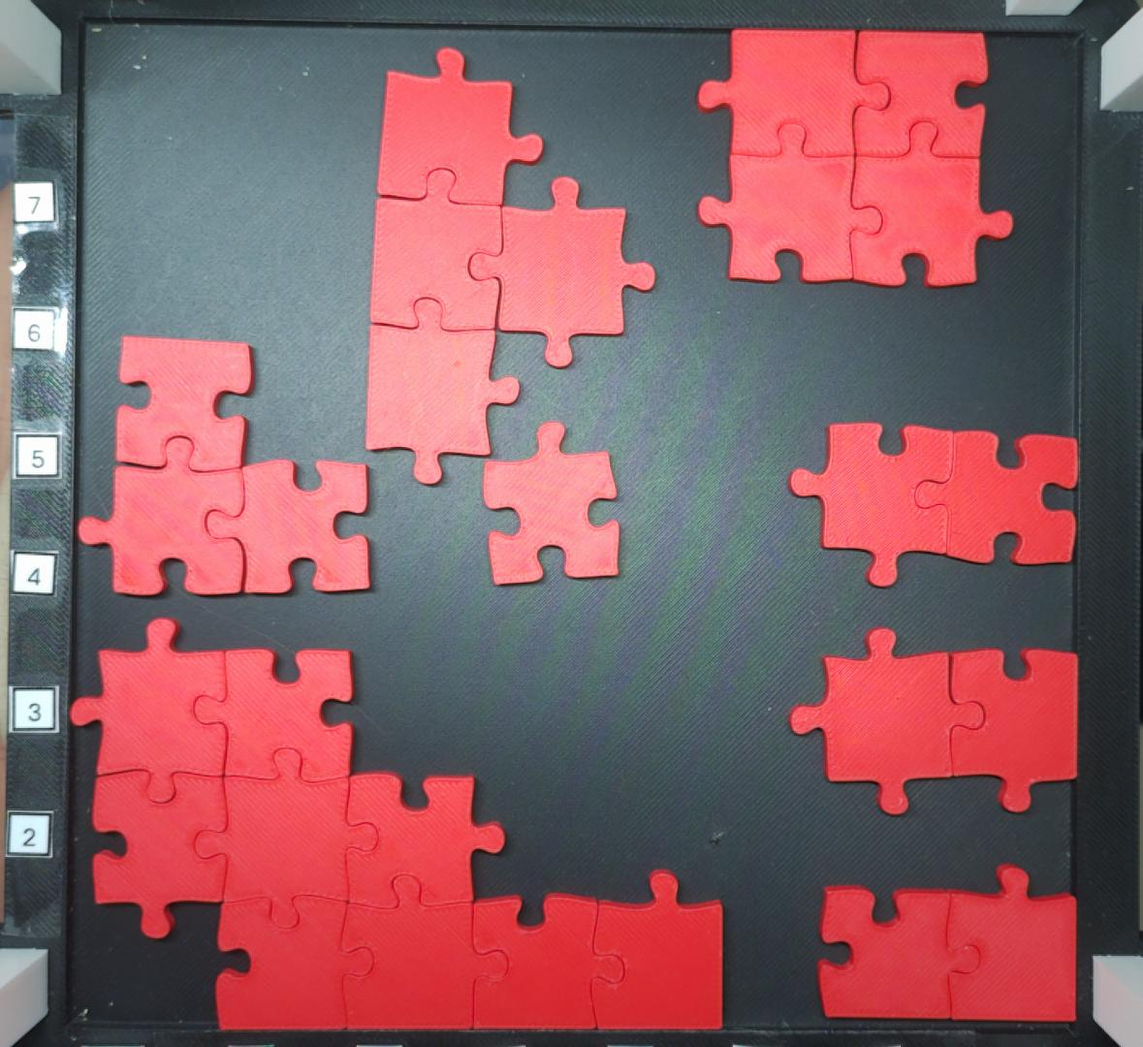p_1: (479, 419, 624, 587)
p_2: (787, 626, 1080, 816), (785, 420, 1082, 589), (816, 862, 1081, 1025)
p_3: (76, 333, 374, 599)
p_4: (362, 44, 657, 487), (694, 26, 1015, 289)
p_m: (67, 614, 728, 1033)
